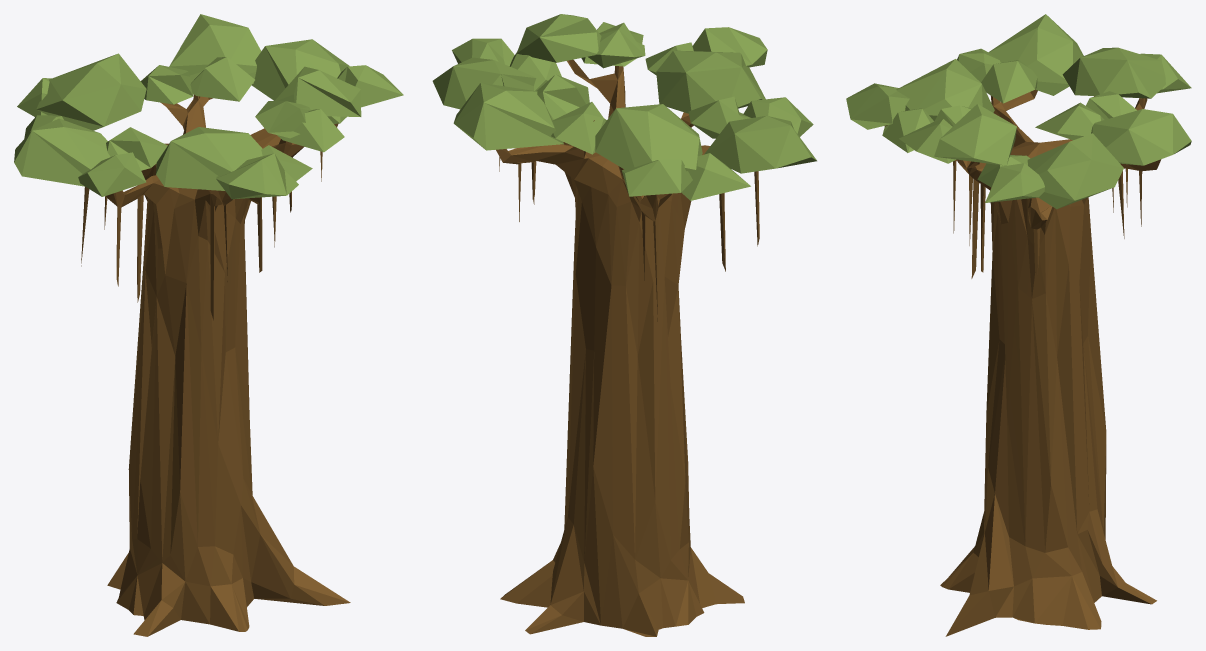
File: Tree_Dry_D.fbx
3 renders of one model, left to right at view 1: azimuth 30°, elevation 25°; view 2: azimuth 150°, elevation 25°; view 3: azimuth 270°, elevation 25°, orthographic. The views are drawn at different scales.
Parts seen in each view (by area): view 1: Tree_Dry_D; view 2: Tree_Dry_D; view 3: Tree_Dry_D.
Part boxes in pixels (x1,y1,x2,y2): Tree_Dry_D: [14, 14, 403, 636]; Tree_Dry_D: [432, 14, 816, 636]; Tree_Dry_D: [846, 14, 1191, 636].
Bounding box in the file's own units: 630 × 876 × 532.
